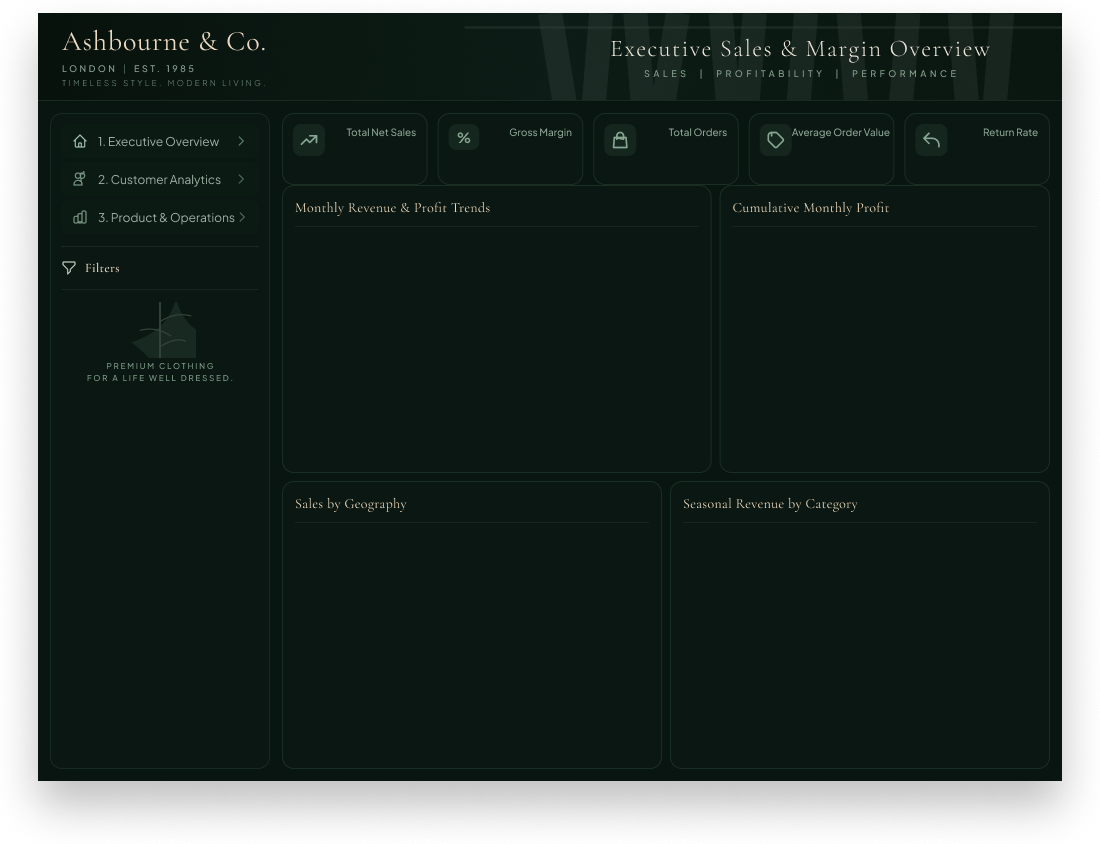

Layout of this report page (visuals, bound fields, positions):
{"tool":"tableau","page":{"name":"Executive Overview","canvas":[1024,768],"ordinal":1},"visuals":[{"type":"image","param":"Image/page 1.png","box":[8,8,1008,752]},{"type":"dashboard-object","box":[70,118,193,35]},{"type":"worksheet","title":"KPI: Total Orders","mark":"Automatic","box":[590,123,78,35]},{"type":"worksheet","title":"KPI: Gross Margin","mark":"Automatic","box":[452,127,85,31]},{"type":"worksheet","title":"KPI: Average Order Value","mark":"Automatic","box":[723,127,89,32]},{"type":"worksheet","title":"KPI: YoY Return rate chnage (%)","mark":"Automatic","box":[863,127,87,36]},{"type":"worksheet","title":"KPI: Total Net Sales","mark":"Automatic","box":[311,130,89,30]},{"type":"worksheet","title":"KPI: YoY Gross Margin Change (%)","mark":"Automatic","box":[483,151,60,28]},{"type":"worksheet","title":"KPI: YoY Average Order Value chnage (%)","mark":"Automatic","box":[757,151,56,26]},{"type":"dashboard-object","box":[69,152,193,32]},{"type":"worksheet","title":"KPI: YoY Total Orders chnage (%)","mark":"Automatic","box":[618,152,61,25]},{"type":"worksheet","title":"KPI: Return Rate","mark":"Automatic","box":[892,152,65,26]},{"type":"worksheet","title":"KPI: YoY Sales Change (%)","mark":"Automatic","box":[350,156,55,16]},{"type":"dashboard-object","box":[67,185,193,35]},{"type":"worksheet","title":"Monthly Revenue & Profit Trends","mark":"Bar","rows":["Calculation_1785395827931471885","Calculation_1785395827936776209"],"cols":["order_date"],"box":[282,211,367,215]},{"type":"worksheet","title":"Cumulative Monthly Profit","mark":"GanttBar","rows":["Calculation_1785395827963052067"],"cols":["order_date"],"box":[657,213,294,213]},{"type":"parameter","param":"[Parameters].[Parameter 1]","box":[80,375,163,40]},{"type":"parameter","param":"[Parameters].[Parameter 4]","box":[80,434,160,44]},{"type":"worksheet","title":"Sales by Geography","mark":"Automatic","box":[280,468,328,218]},{"type":"legend","title":"Seasonal Revenue by Category","param":"[federated.1591cv20ekxbvl1bdkpwh18ajdy5].[none:season:nk]","box":[619,471,237,20]},{"type":"worksheet","title":"Seasonal Revenue by Category","mark":"Bar","rows":["Calculation_1785395827976613932"],"cols":["order_date","category"],"box":[620,471,334,216]},{"type":"parameter","param":"[Parameters].[Parameter 3]","box":[78,502,160,44]}]}

Visuals, with their boxes in screenshot pixels (x1, y1, x2, y2), scaled from the page's 1024x768 canvas onto the 1100x844 screenshot:
image: x1=9 y1=9 x2=1091 y2=835
dashboard-object: x1=75 y1=130 x2=283 y2=168
"KPI: Total Orders" worksheet: x1=634 y1=135 x2=718 y2=174
"KPI: Gross Margin" worksheet: x1=486 y1=140 x2=577 y2=174
"KPI: Average Order Value" worksheet: x1=777 y1=140 x2=872 y2=175
"KPI: YoY Return rate chnage (%)" worksheet: x1=927 y1=140 x2=1021 y2=179
"KPI: Total Net Sales" worksheet: x1=334 y1=143 x2=430 y2=176
"KPI: YoY Gross Margin Change (%)" worksheet: x1=519 y1=166 x2=583 y2=197
"KPI: YoY Average Order Value chnage (%)" worksheet: x1=813 y1=166 x2=873 y2=195
dashboard-object: x1=74 y1=167 x2=281 y2=202
"KPI: YoY Total Orders chnage (%)" worksheet: x1=664 y1=167 x2=729 y2=195
"KPI: Return Rate" worksheet: x1=958 y1=167 x2=1028 y2=196
"KPI: YoY Sales Change (%)" worksheet: x1=376 y1=171 x2=435 y2=189
dashboard-object: x1=72 y1=203 x2=279 y2=242
"Monthly Revenue & Profit Trends" worksheet (Bar marks): x1=303 y1=232 x2=697 y2=468
"Cumulative Monthly Profit" worksheet (GanttBar marks): x1=706 y1=234 x2=1022 y2=468
parameter: x1=86 y1=412 x2=261 y2=456
parameter: x1=86 y1=477 x2=258 y2=525
"Sales by Geography" worksheet: x1=301 y1=514 x2=653 y2=754
"Seasonal Revenue by Category" legend: x1=665 y1=518 x2=920 y2=540
"Seasonal Revenue by Category" worksheet (Bar marks): x1=666 y1=518 x2=1025 y2=755
parameter: x1=84 y1=552 x2=256 y2=600
